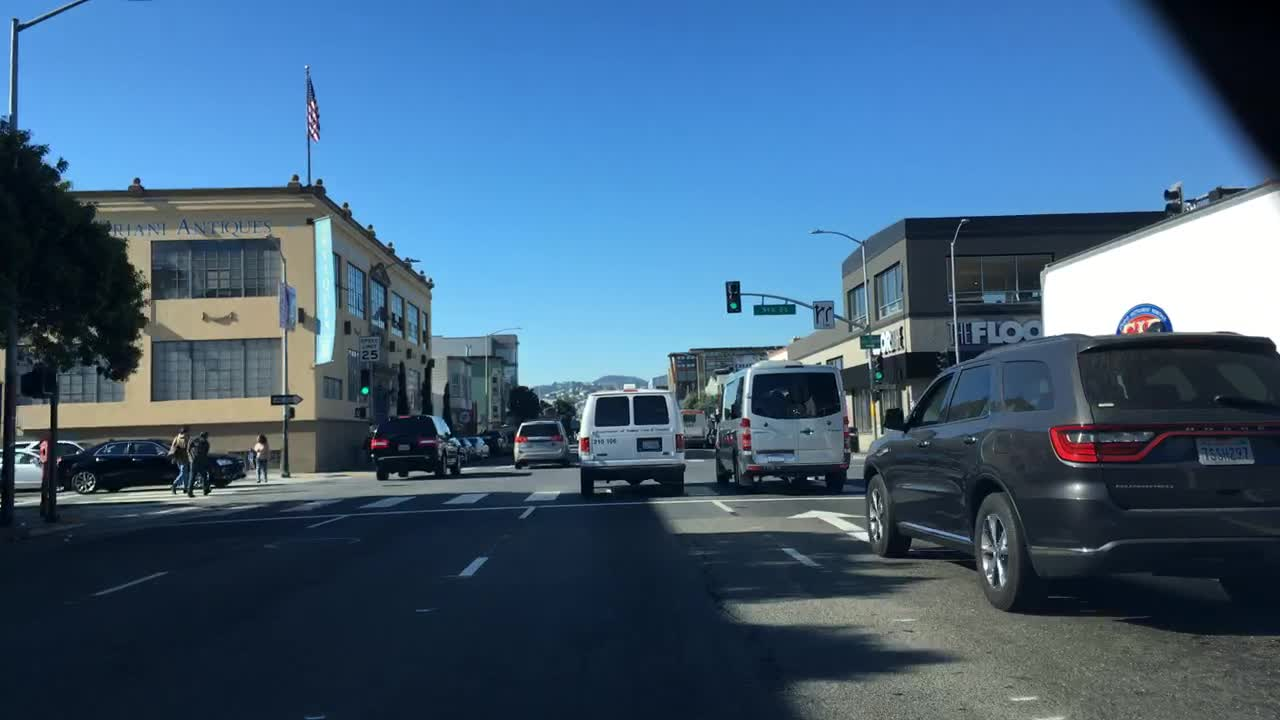car: (861, 333, 1279, 615), (712, 358, 853, 495), (577, 381, 686, 497), (55, 437, 200, 492), (369, 412, 462, 481), (150, 437, 246, 487), (512, 416, 566, 469), (0, 447, 60, 492), (8, 435, 87, 465), (678, 407, 710, 449), (477, 428, 512, 455), (467, 435, 489, 462), (455, 435, 475, 462), (566, 435, 580, 461)
person: (187, 430, 212, 497), (168, 421, 190, 497), (251, 431, 269, 484)
traffic light: (21, 359, 52, 402), (1163, 181, 1187, 215), (723, 280, 740, 313), (870, 350, 884, 386), (350, 404, 368, 420), (361, 369, 367, 398), (287, 407, 296, 420)
traffic sign: (357, 332, 380, 366), (811, 298, 835, 329), (752, 302, 798, 317), (860, 332, 882, 349), (268, 395, 302, 405)
